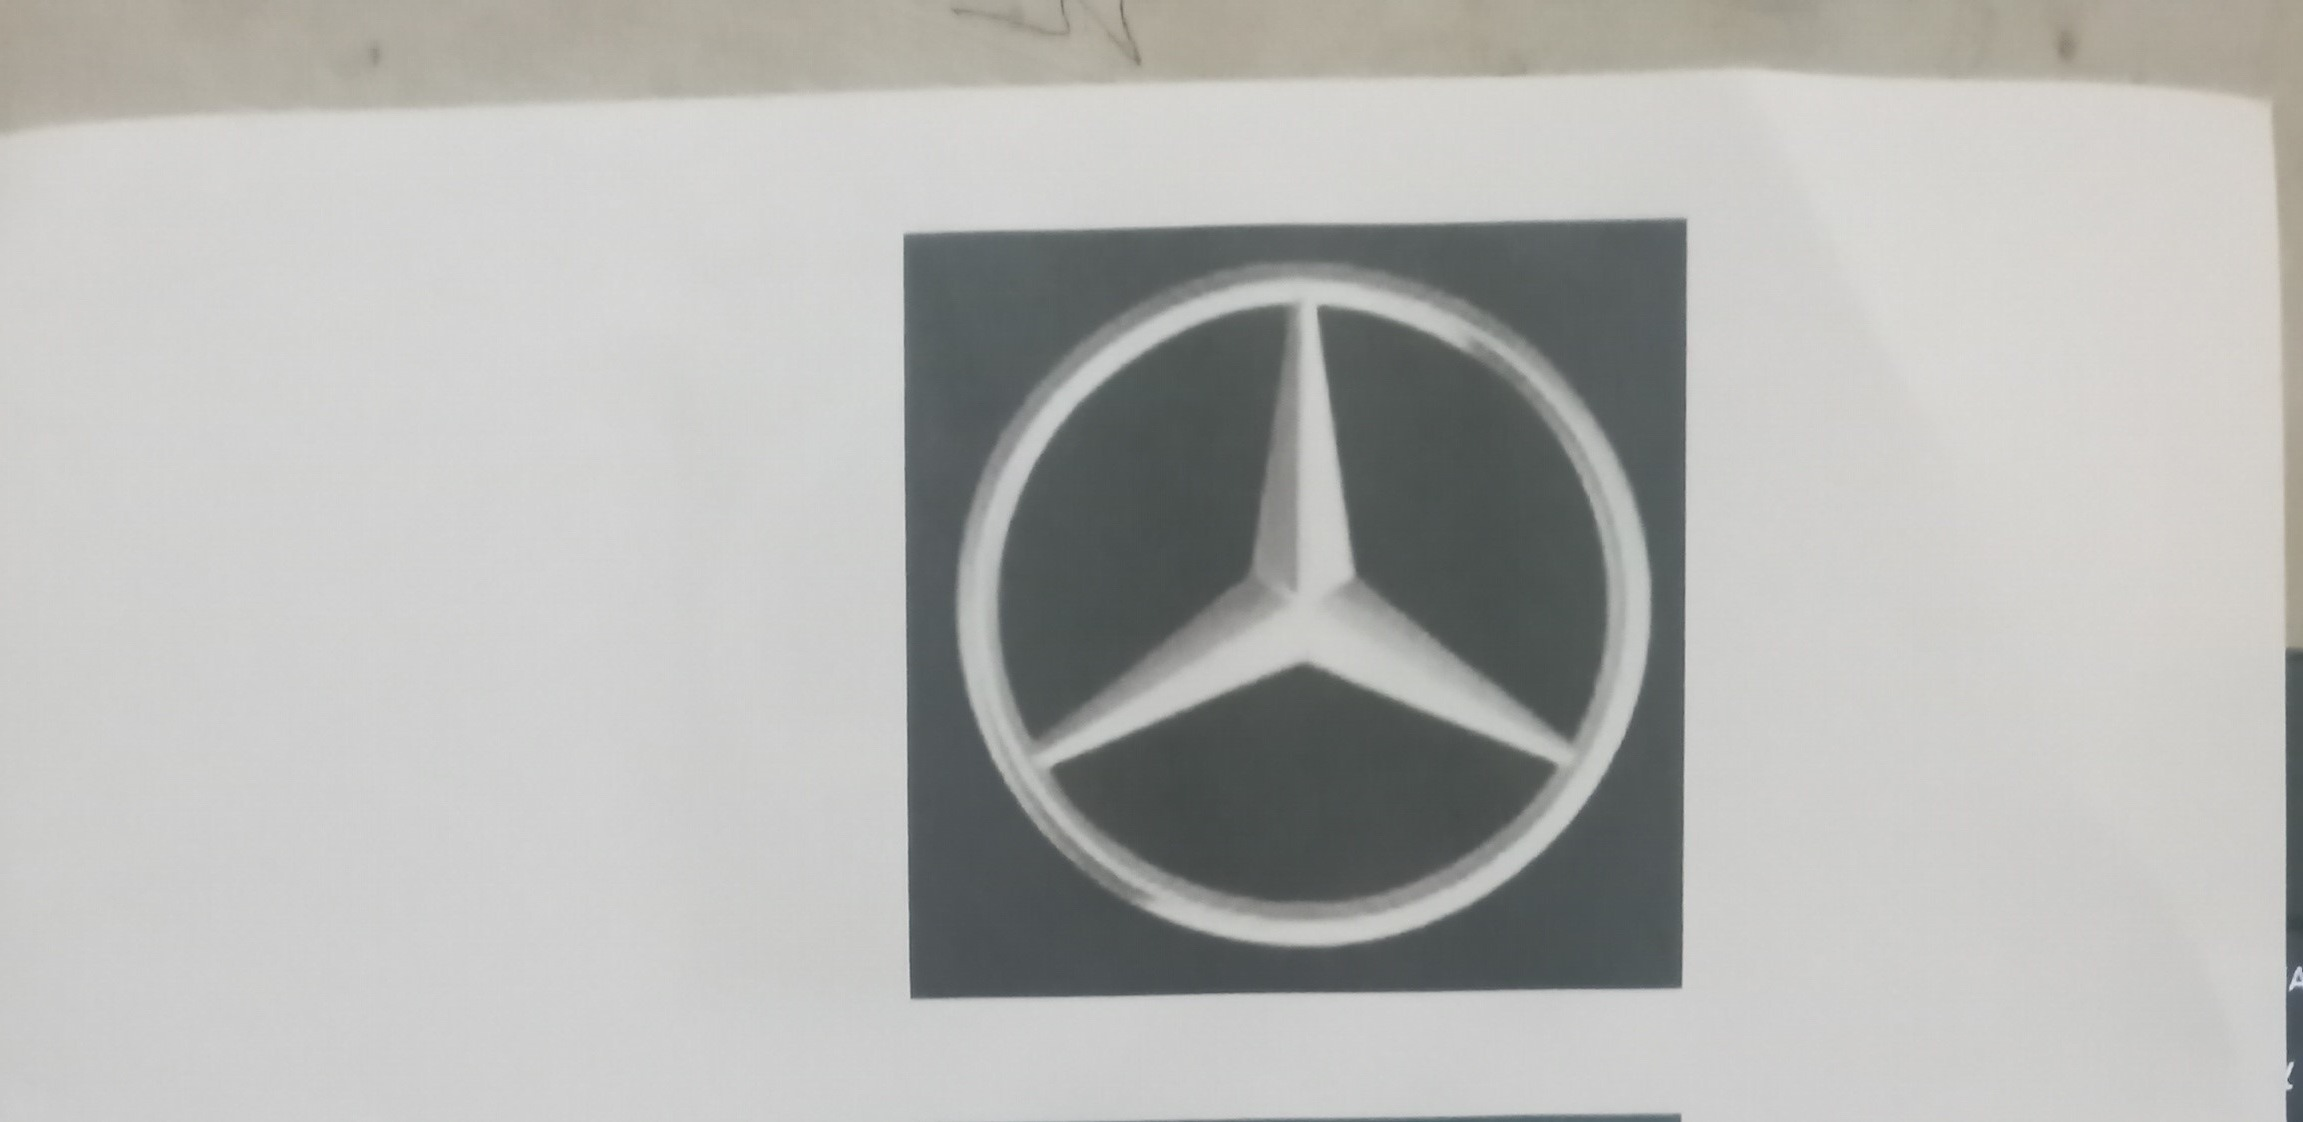Mercedes: (928, 235, 1668, 974)
